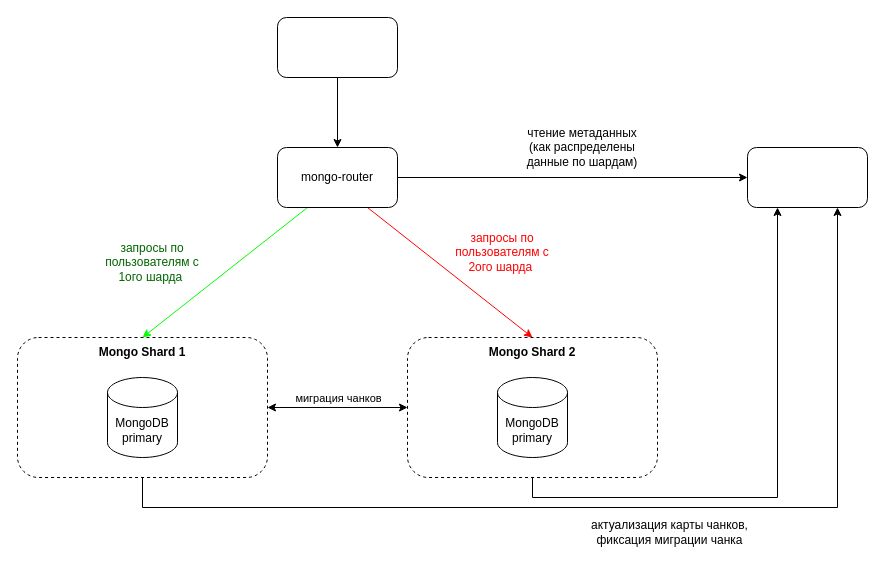
Image size: 885x575. Some labels were removed from this diagram. Here are the shapes that lost their labels. From the top down, the centre of each, then its label:
At (x=337, y=47): "pymongo-api".
At (x=807, y=177): "configSrv".
